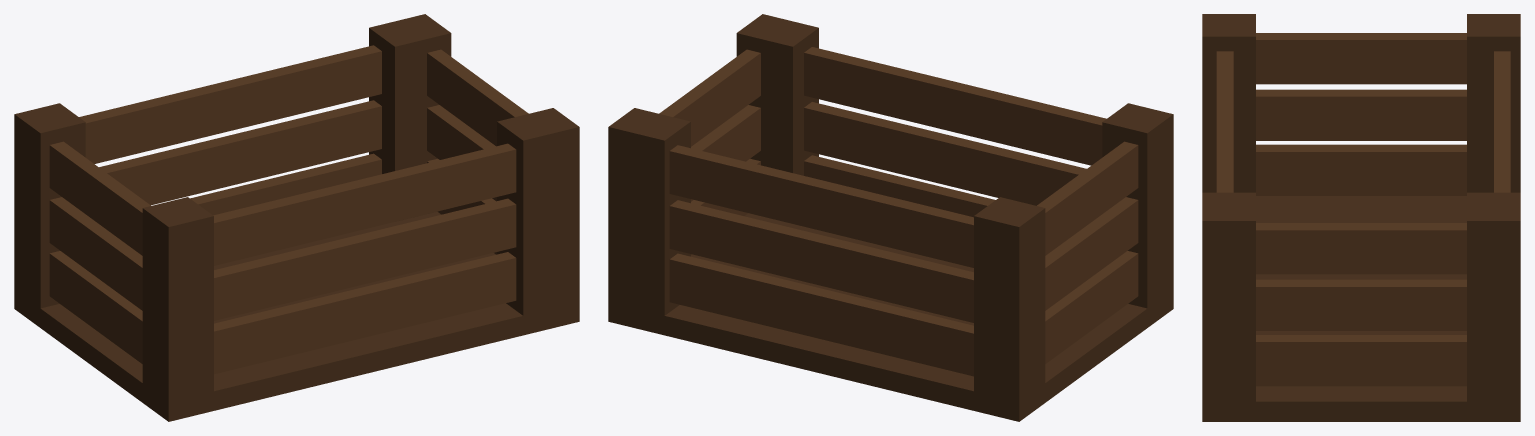
Rendered from open_box_2.fbx.
3 views of the same model, side by side, from view 1: azimuth 30°, elevation 25°; view 2: azimuth 150°, elevation 25°; view 3: azimuth 270°, elevation 25° (orthographic). The views are drawn at different scales.
Visible parts, largest first — view 1: open_box_2; view 2: open_box_2; view 3: open_box_2.
Part boxes in pixels (x1=…): open_box_2: x1=14, y1=14, x2=579, y2=421; open_box_2: x1=608, y1=14, x2=1173, y2=421; open_box_2: x1=1202, y1=14, x2=1520, y2=421.
Bounding box in the file's own units: 168 × 76.18 × 109.
